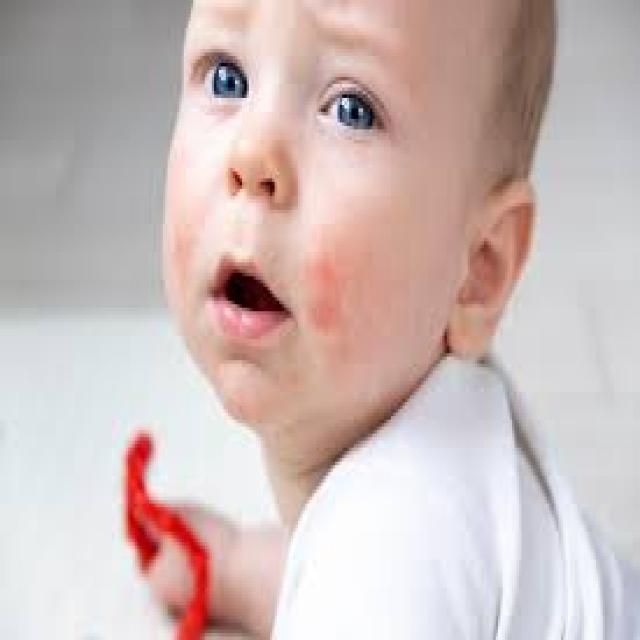Eczema: (291, 238, 351, 349), (174, 235, 195, 288)
